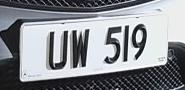1: (120, 20, 133, 66)
5: (102, 22, 122, 67)
9: (129, 19, 149, 64)
U: (43, 25, 69, 74)
W: (68, 25, 94, 72)
